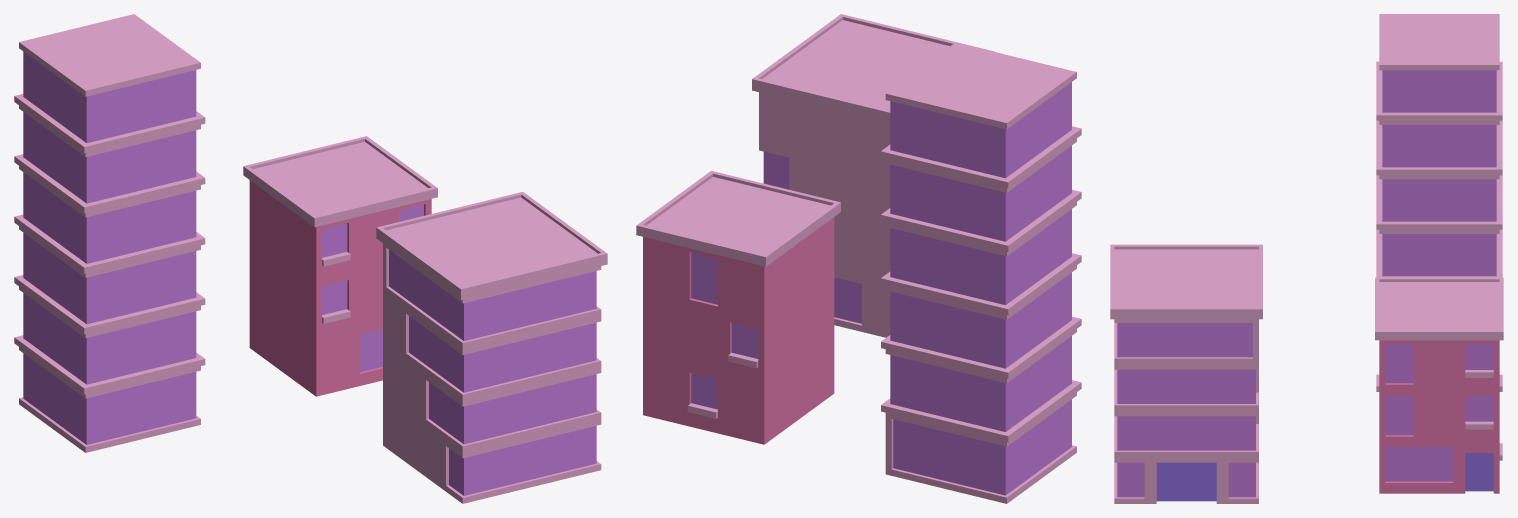
Rendered from mwg_buildingSet1_v1.fbx.
3 views of the same model, side by side, from view 1: azimuth 30°, elevation 25°; view 2: azimuth 150°, elevation 25°; view 3: azimuth 270°, elevation 25° (orthographic). The views are drawn at different scales.
Visible parts, largest first — view 1: building_large, building_medium, building_small; view 2: building_large, building_small, building_medium; view 3: building_medium, building_large, building_small.
Part boxes in pixels (left/top/right/bottom): building_large: left=14, top=14, right=205, bottom=452; building_medium: left=376, top=192, right=607, bottom=503; building_small: left=243, top=136, right=437, bottom=396; building_large: left=881, top=42, right=1081, bottom=503; building_small: left=636, top=170, right=840, bottom=444; building_medium: left=752, top=14, right=994, bottom=337; building_medium: left=1110, top=244, right=1262, bottom=503; building_large: left=1376, top=14, right=1502, bottom=277; building_small: left=1375, top=277, right=1503, bottom=493.
Size of the model in its own units: 3260 by 3000 by 3271.
